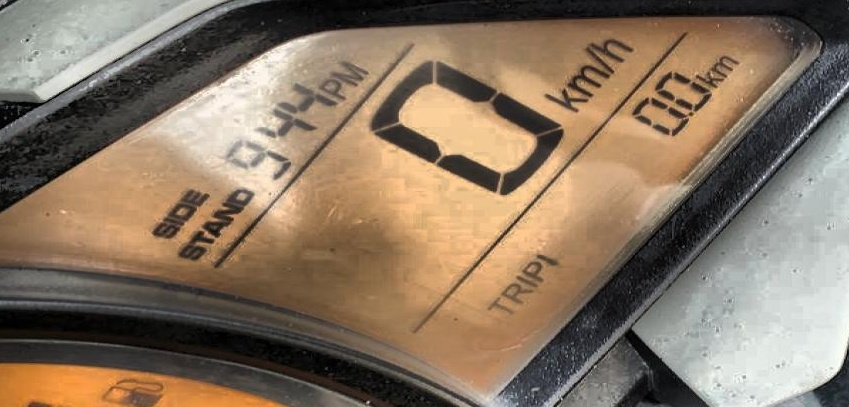-: (684, 109, 696, 117)
0: (360, 57, 568, 197), (626, 96, 689, 136), (650, 70, 711, 110)
1: (533, 251, 555, 264)
4: (273, 83, 336, 112), (255, 108, 316, 137)
9: (222, 139, 288, 179)
X: (565, 63, 605, 96), (588, 38, 632, 61), (542, 88, 583, 112), (330, 58, 366, 85), (579, 46, 612, 72), (709, 54, 739, 77), (500, 282, 530, 303), (316, 78, 347, 98), (693, 70, 723, 87), (226, 186, 252, 205), (212, 202, 239, 220), (485, 296, 512, 314), (519, 260, 542, 281), (178, 188, 208, 204), (199, 220, 228, 235), (167, 202, 194, 218), (175, 243, 202, 259), (148, 222, 175, 237), (188, 230, 215, 243), (513, 274, 537, 287), (160, 214, 183, 225)
